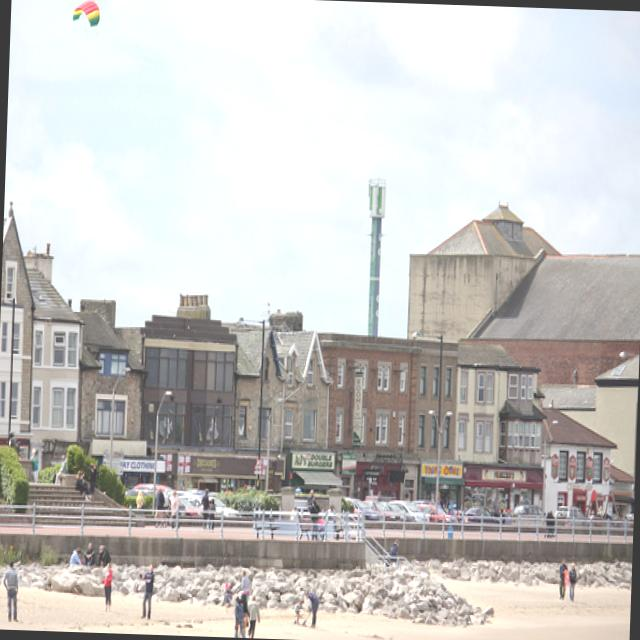Vehicle: (188, 494, 242, 518), (389, 498, 428, 522), (416, 502, 458, 524), (372, 500, 404, 520), (554, 504, 586, 522), (508, 504, 546, 519), (345, 499, 363, 521), (132, 482, 168, 492), (355, 499, 375, 514), (464, 495, 471, 500)
